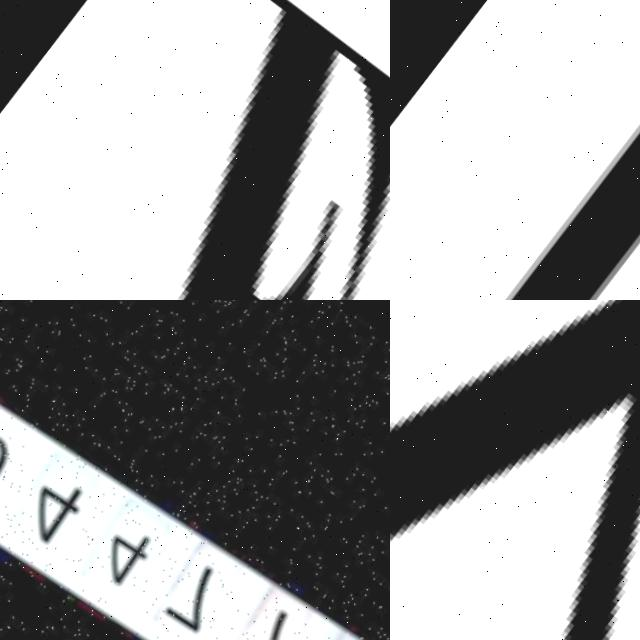0: (0, 410, 26, 519)
4: (0, 455, 99, 567), (72, 509, 165, 608)
7: (140, 545, 241, 640), (218, 592, 313, 640)
E: (184, 0, 390, 300)
V: (390, 300, 640, 640)
